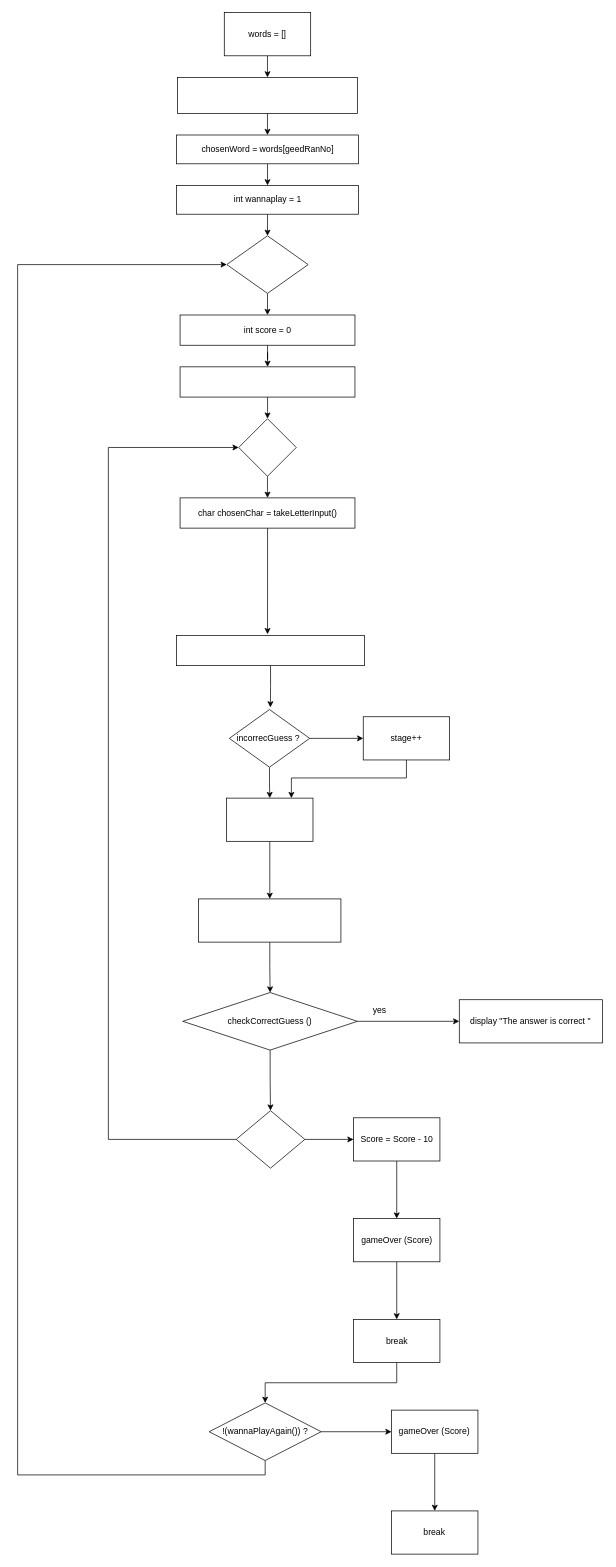
Some shapes in this 616 by 1567 pixel diagram are drawn without their labels. Here are the shapes that lost their labels. From the top down, the centre of each, then its label:
At point 267,95: "int genedRanNo = genRandomNumber()".
At point 267,264: "while (wannaplay)".
At point 267,381: "int stage = 0".
At point 267,447: "while (1)".
At point 270,650: "int *x = checkChar (chosenChar, chosenWord)".
At point 269,819: "hangman (stage)".
At point 269,920: "outputPrinter (chosenWord, mainIndices )".
At point 270,1139: "stage == 7 ?".
